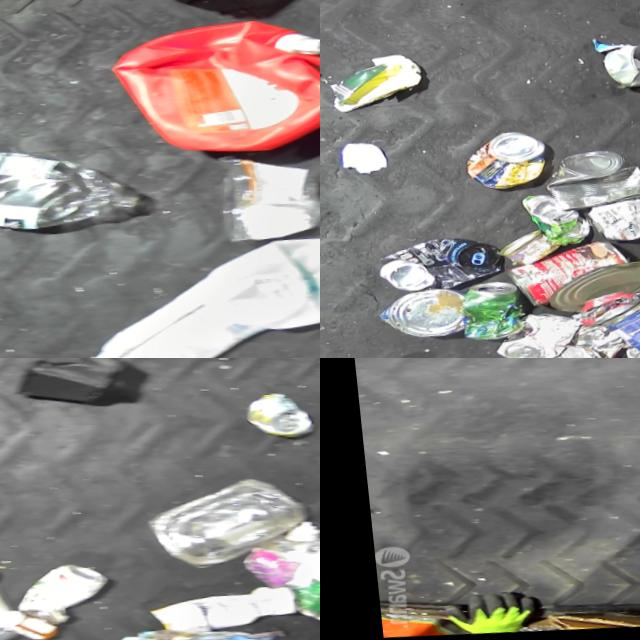can: (495, 244, 626, 323), (367, 237, 496, 306), (535, 154, 640, 227), (538, 265, 640, 327), (456, 136, 544, 202), (367, 291, 457, 350), (449, 284, 519, 349), (512, 199, 586, 258), (233, 399, 306, 457), (482, 315, 575, 358), (577, 194, 640, 257), (586, 295, 640, 358), (277, 569, 320, 640), (489, 234, 554, 278), (167, 358, 289, 379), (599, 51, 640, 102)
milk_jug: (181, 230, 320, 354)
non_white_jug: (96, 3, 320, 174)
plastic_bottle: (0, 135, 145, 244)
